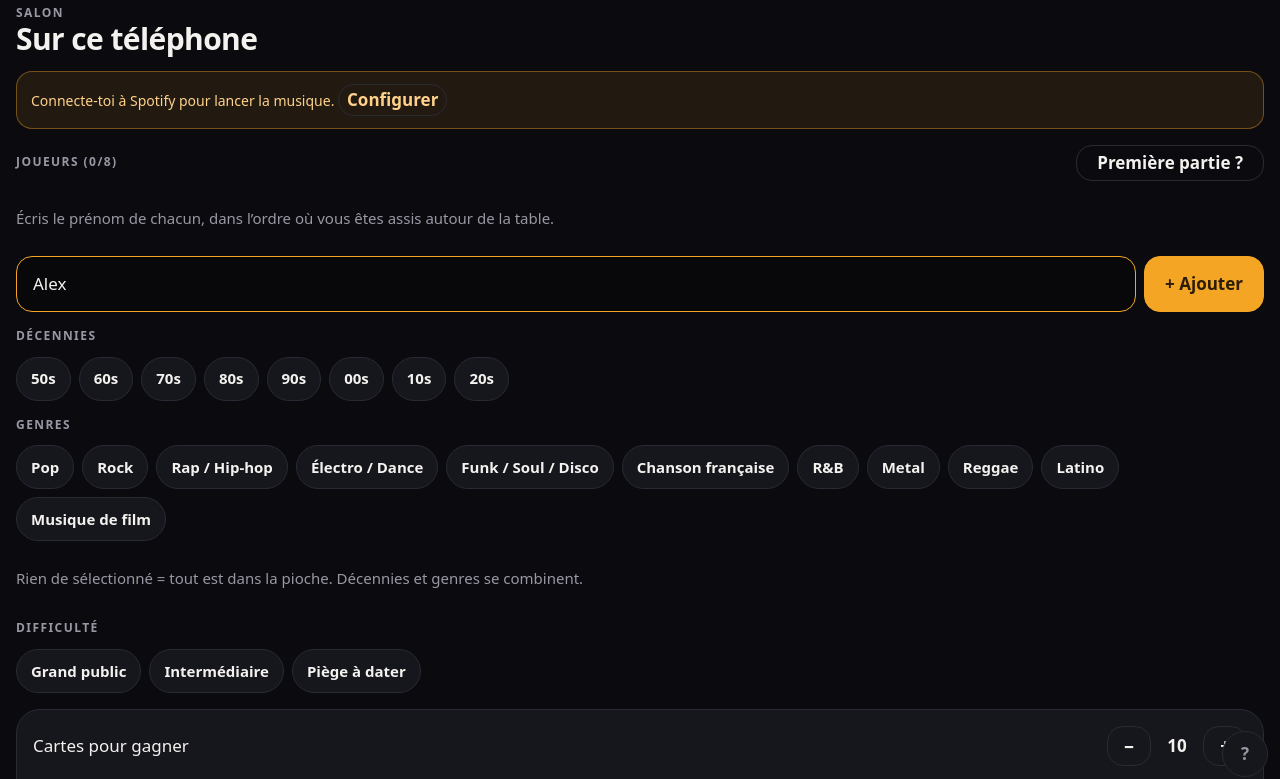
Test case: a table sharing one phone › fills the seats from the lobby, without asking who is holding it
Earlier steps of the test are not shown.
Click the button "+ Ajouter". click: (1204, 284)
box: top-left (1144, 256), bottom-right (1264, 312)
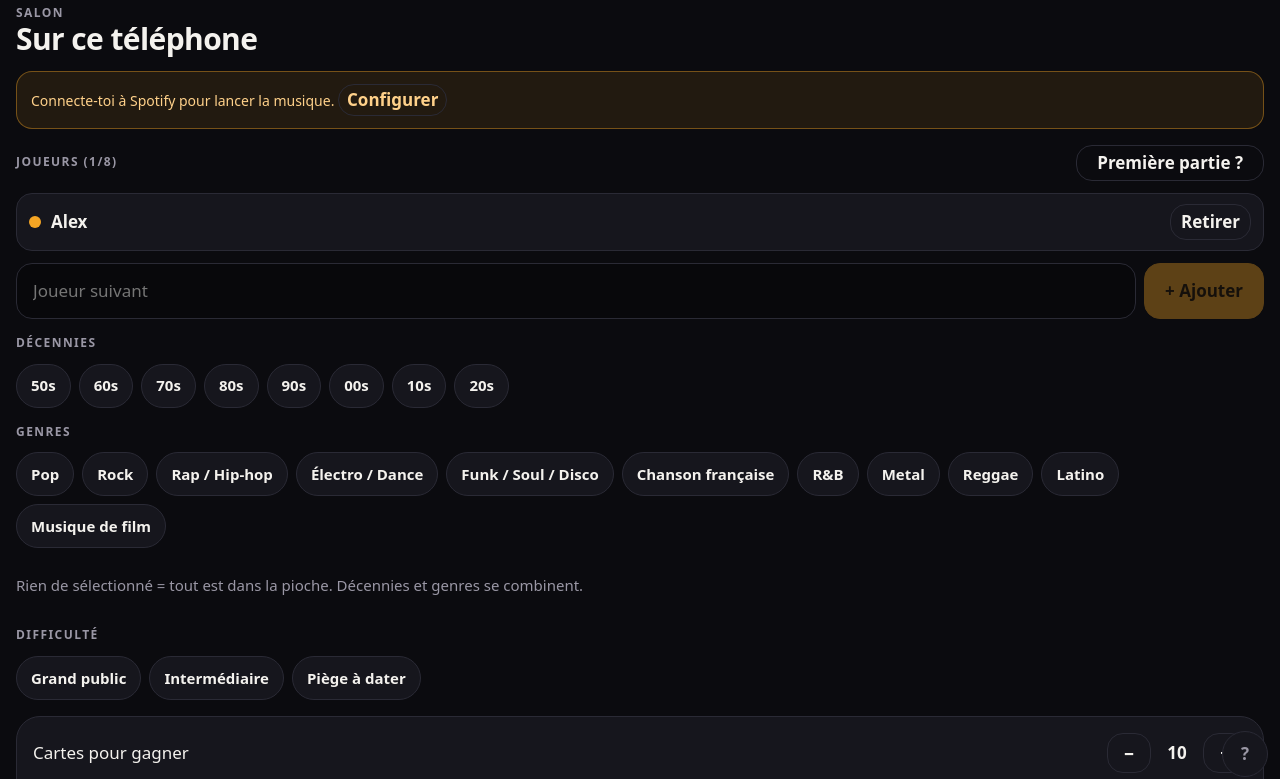
Type "Bob" into the field named "Prénom du joueur à ajouter". click: (576, 291)
box: top-left (16, 263), bottom-right (1136, 319)
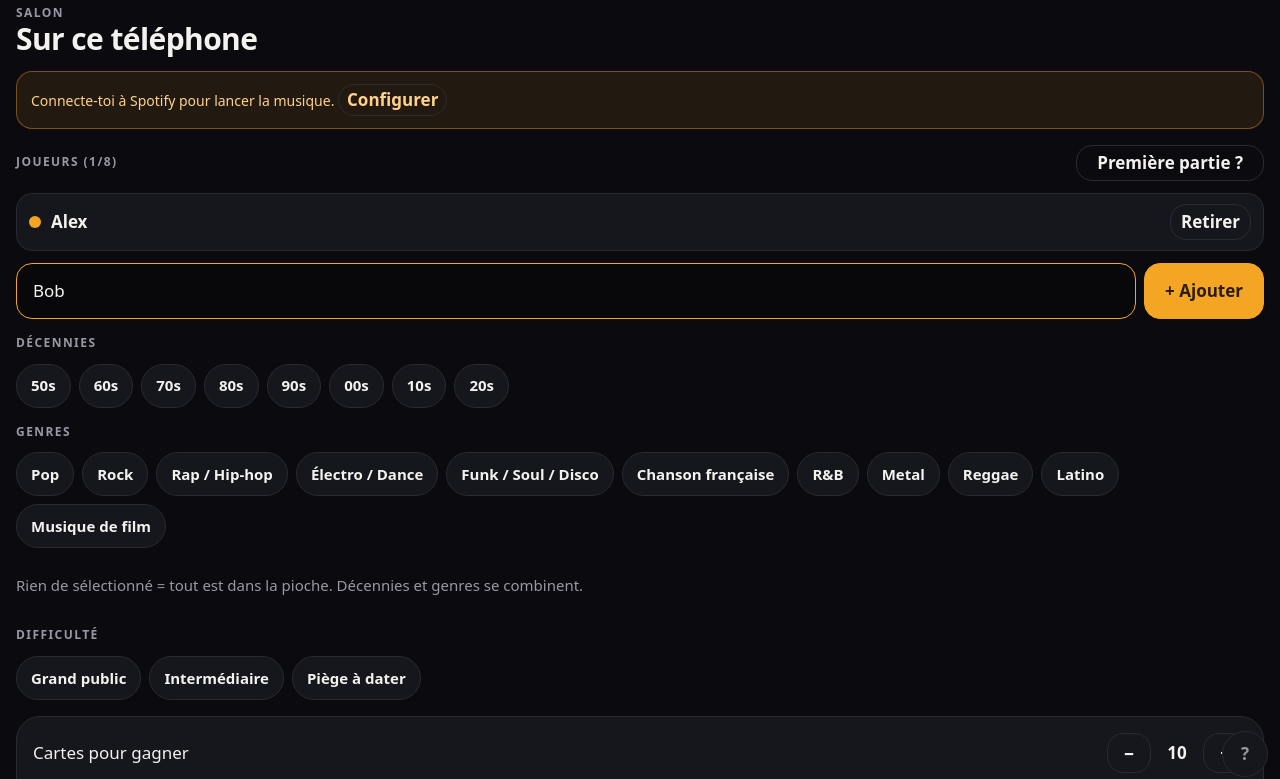
Click the button "+ Ajouter". click: (1204, 291)
box: top-left (1144, 263), bottom-right (1264, 319)
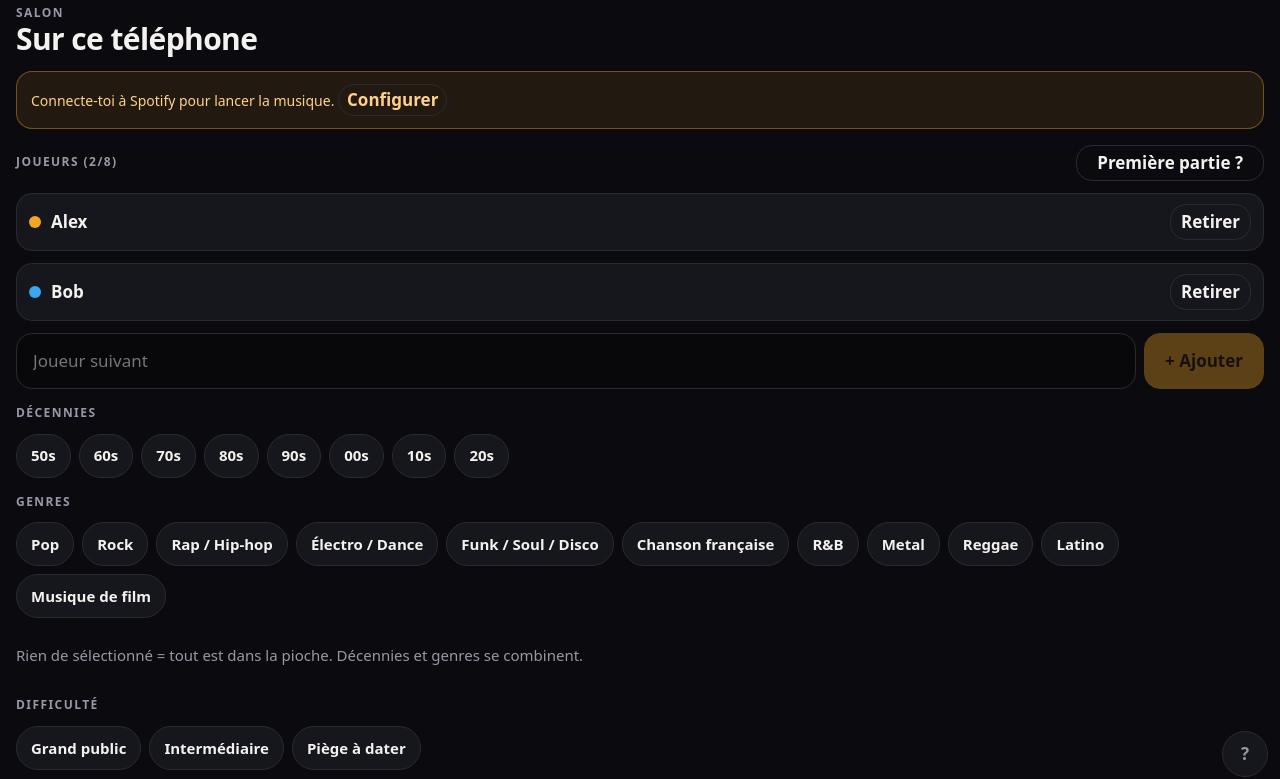
Type "Chloé" into the field named "Prénom du joueur à ajouter". click: (576, 361)
box: top-left (16, 333), bottom-right (1136, 389)
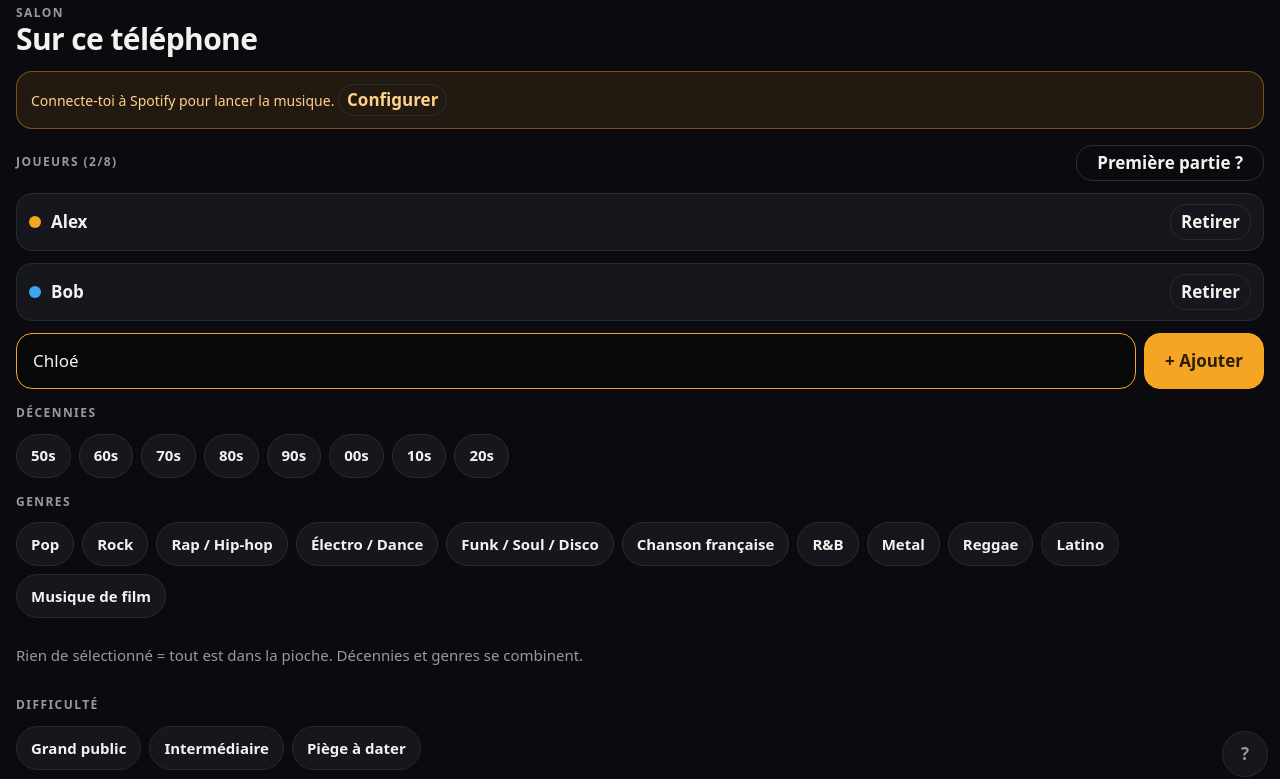
Click the button "+ Ajouter". click: (1204, 361)
box: top-left (1144, 333), bottom-right (1264, 389)
(page scrolled)
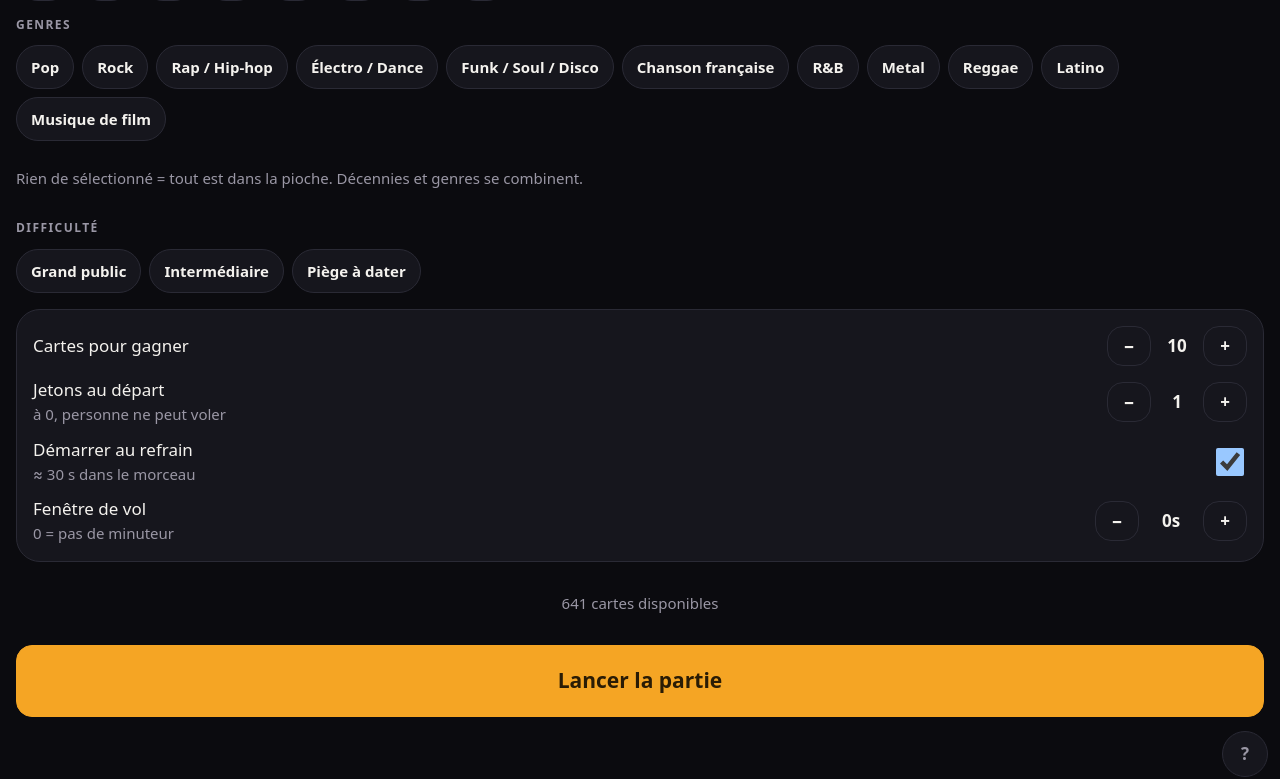
Click the button "Lancer la partie". click: (640, 681)
box: top-left (16, 645), bottom-right (1264, 717)
(page scrolled)
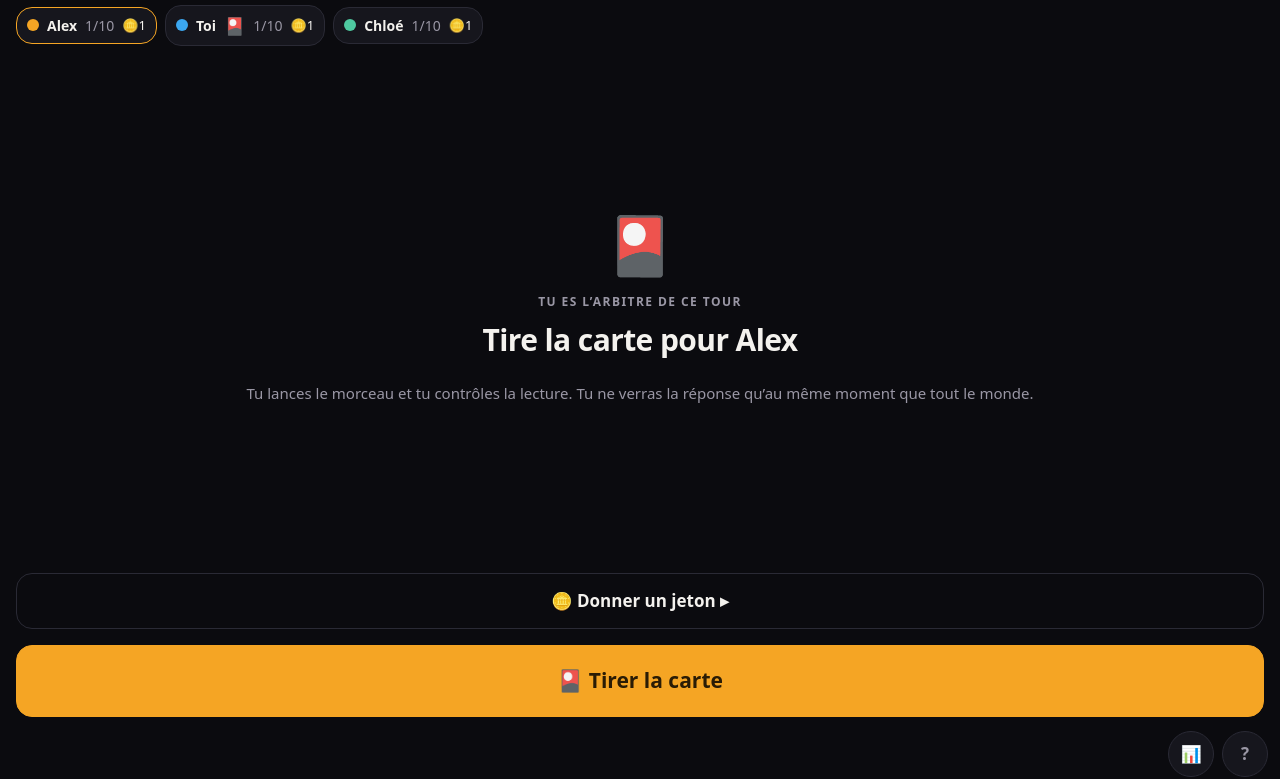
Now the heading "Tire la carte pour Alex" is shown, box top-left (482, 319), bottom-right (798, 360)
